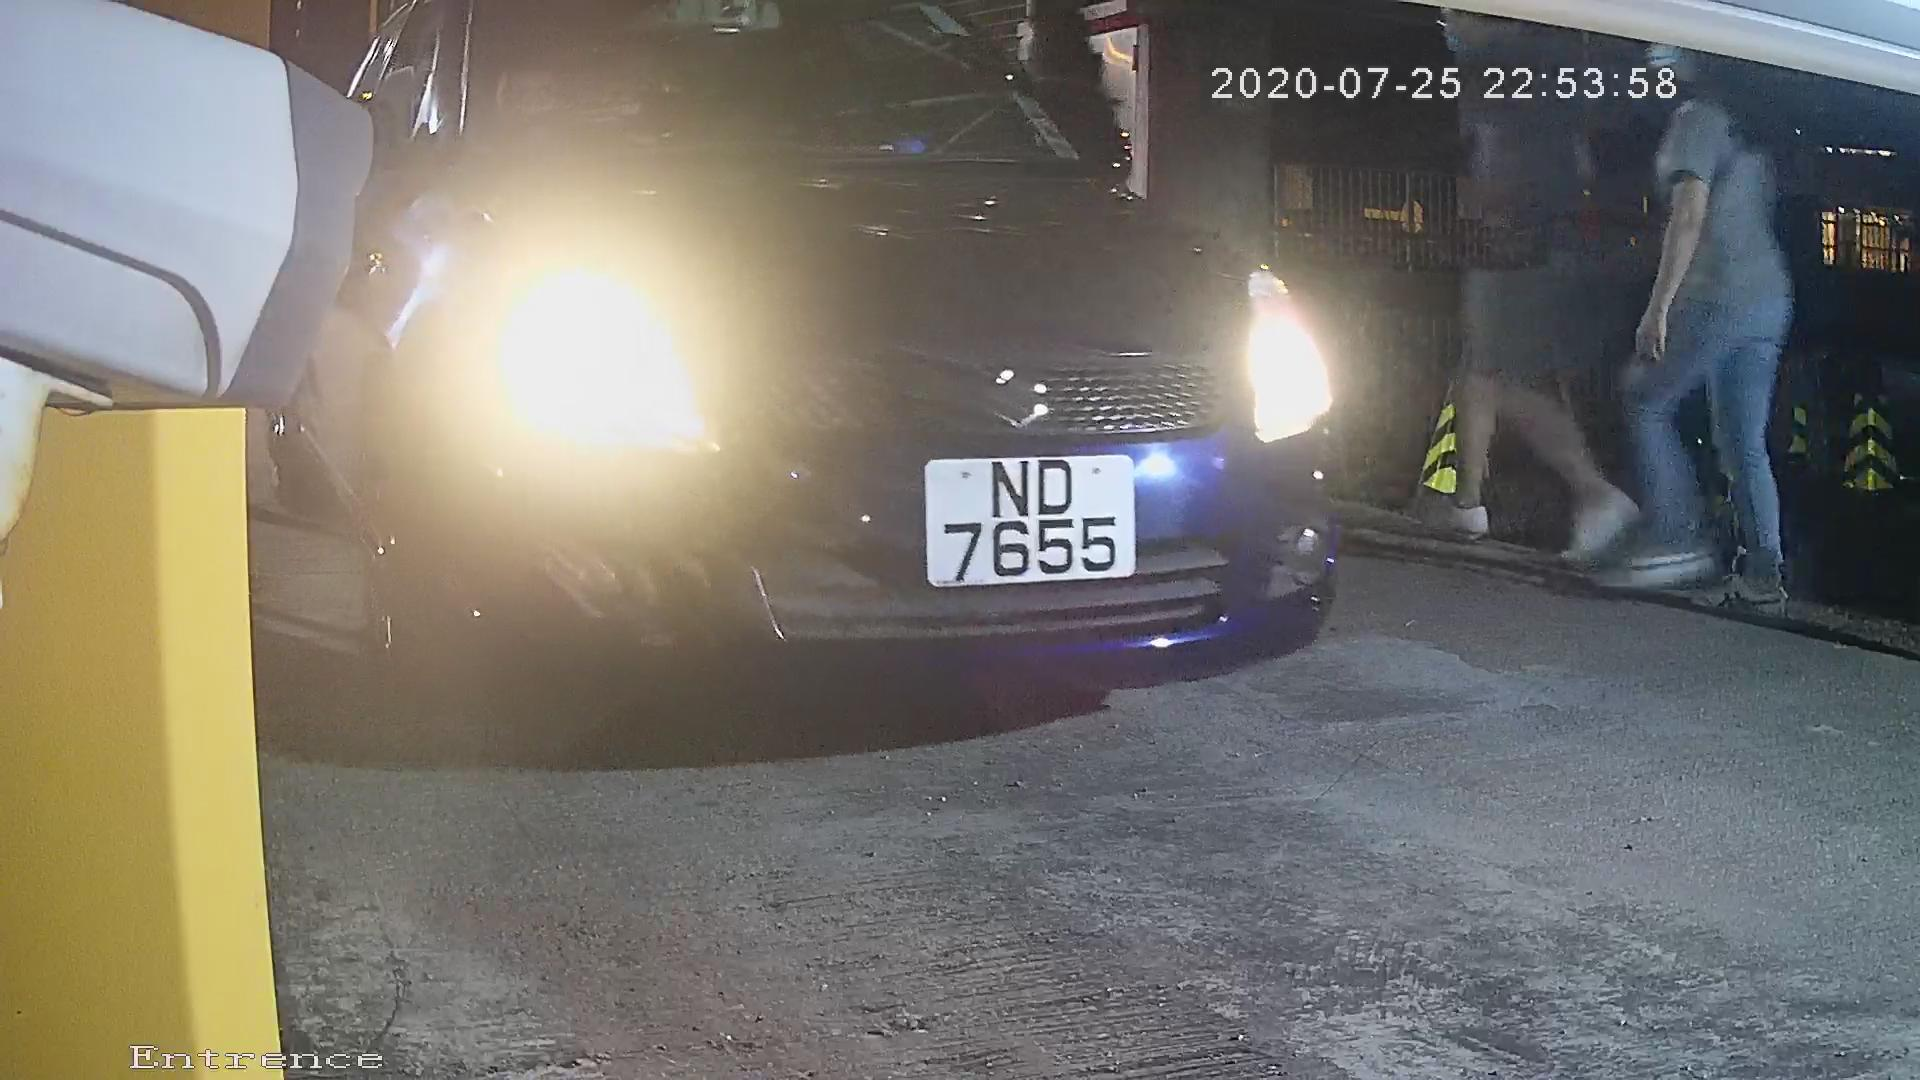License Plate: (892, 449, 1158, 598)
